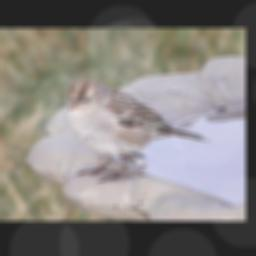Sparrow: (60, 78, 212, 185)
